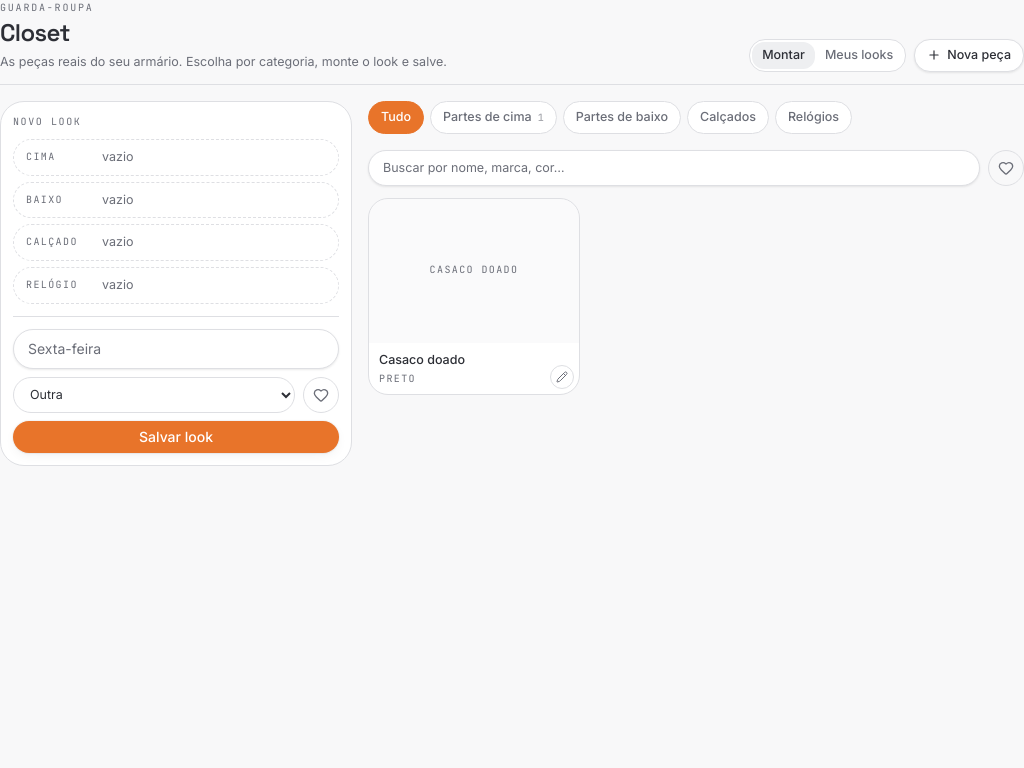
Scenario: cataloguing a piece › archives a piece and takes it out of the selector
Expected: the button "Casaco doado Casaco doado preto" is shown, x1=368 y1=198 x2=580 y2=395
Click the button named "Editar Casaco doado" at (562, 377), box x1=550 y1=365 x2=574 y2=389
(page scrolled)
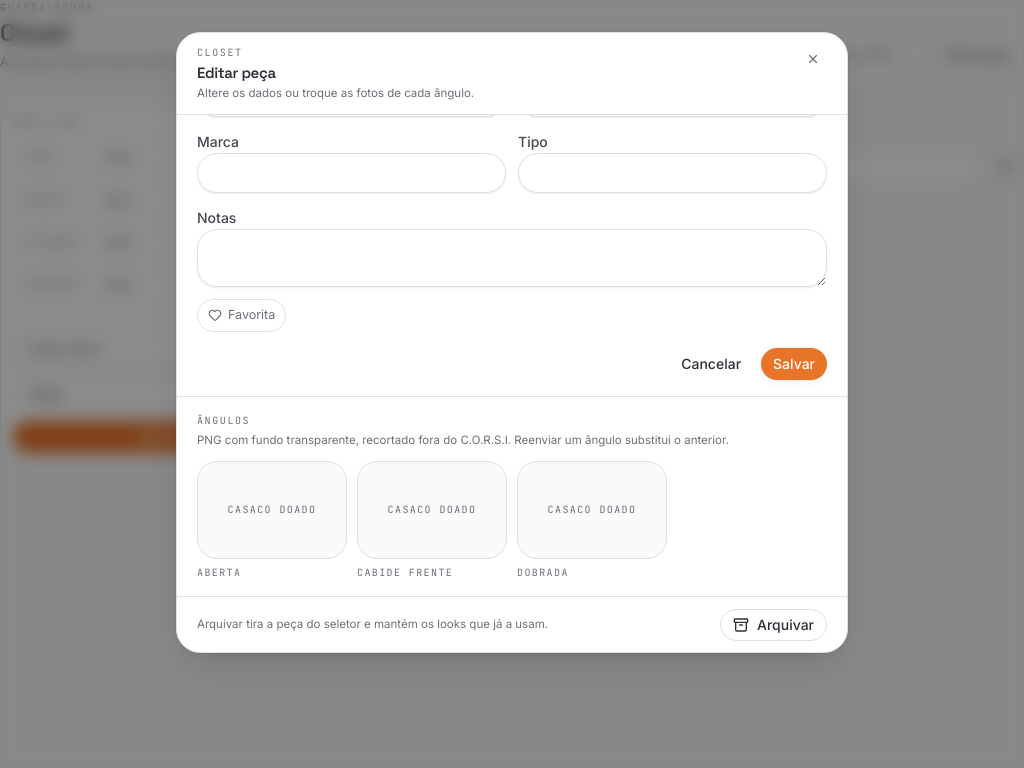
Click the button "Arquivar" at (774, 625), box x1=720 y1=609 x2=827 y2=641
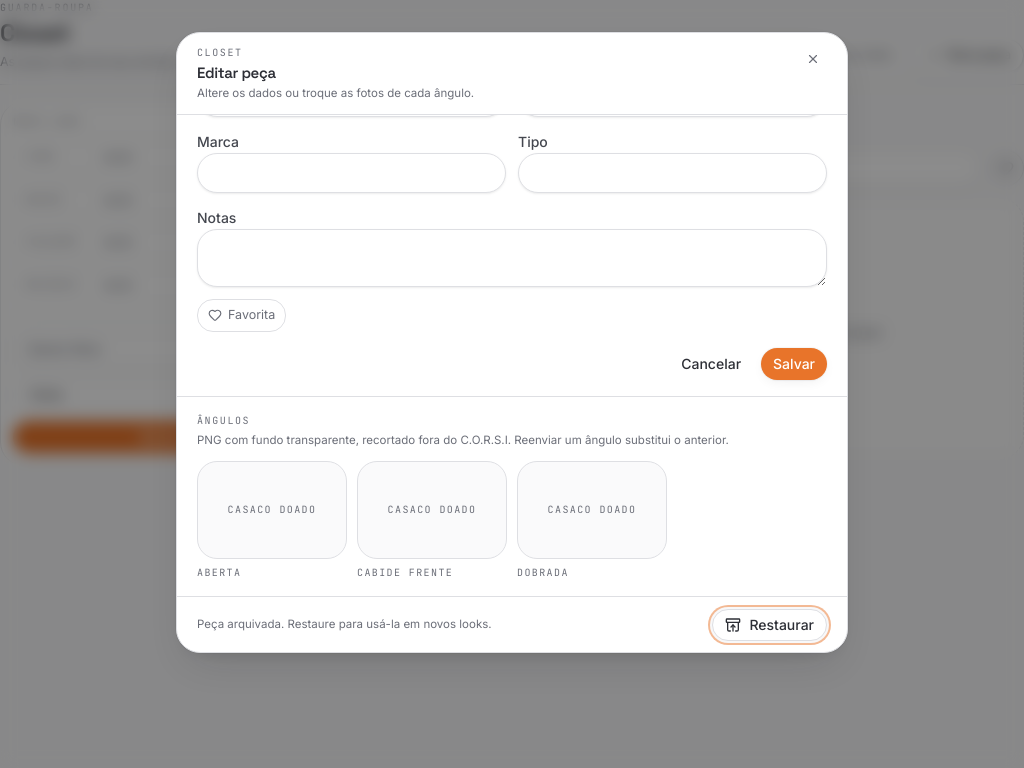
Click the button "Cancelar" at (711, 364), box x1=669 y1=348 x2=753 y2=380
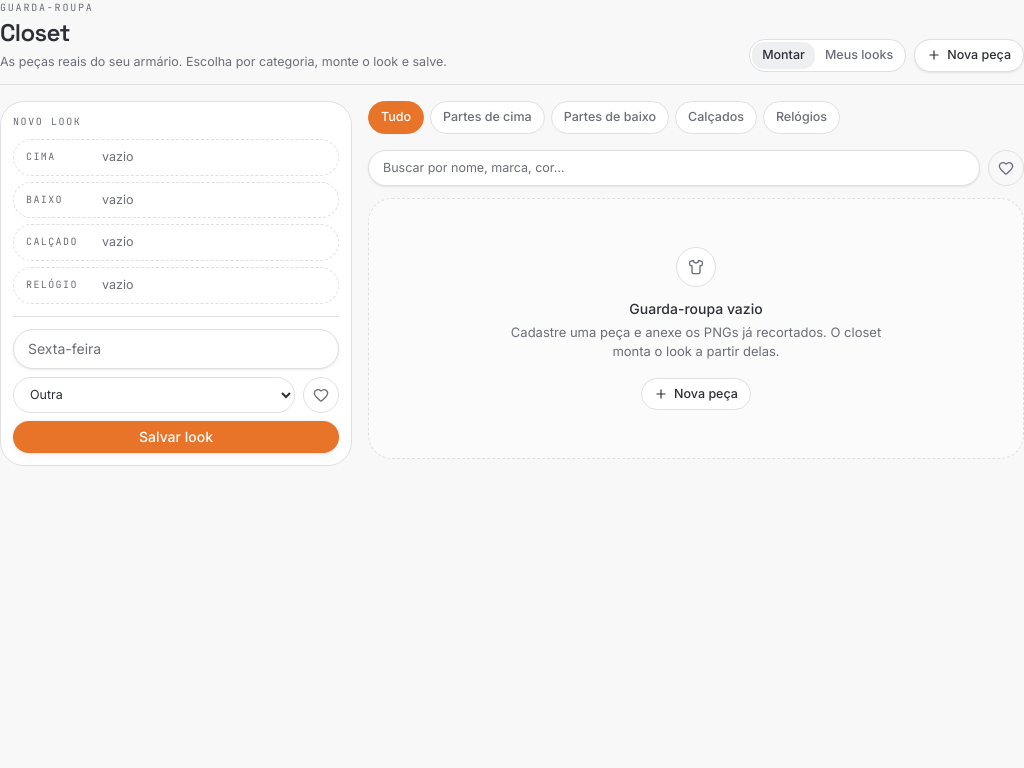
Expected: the text "Casaco doado" is gone
